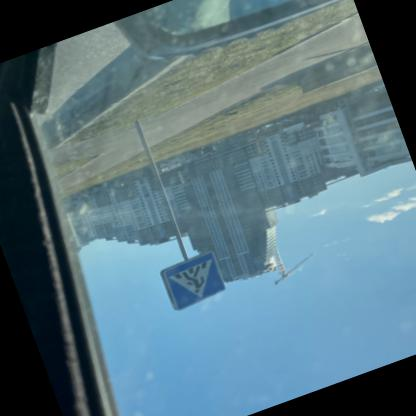crosswalk: (157, 250, 229, 314)
